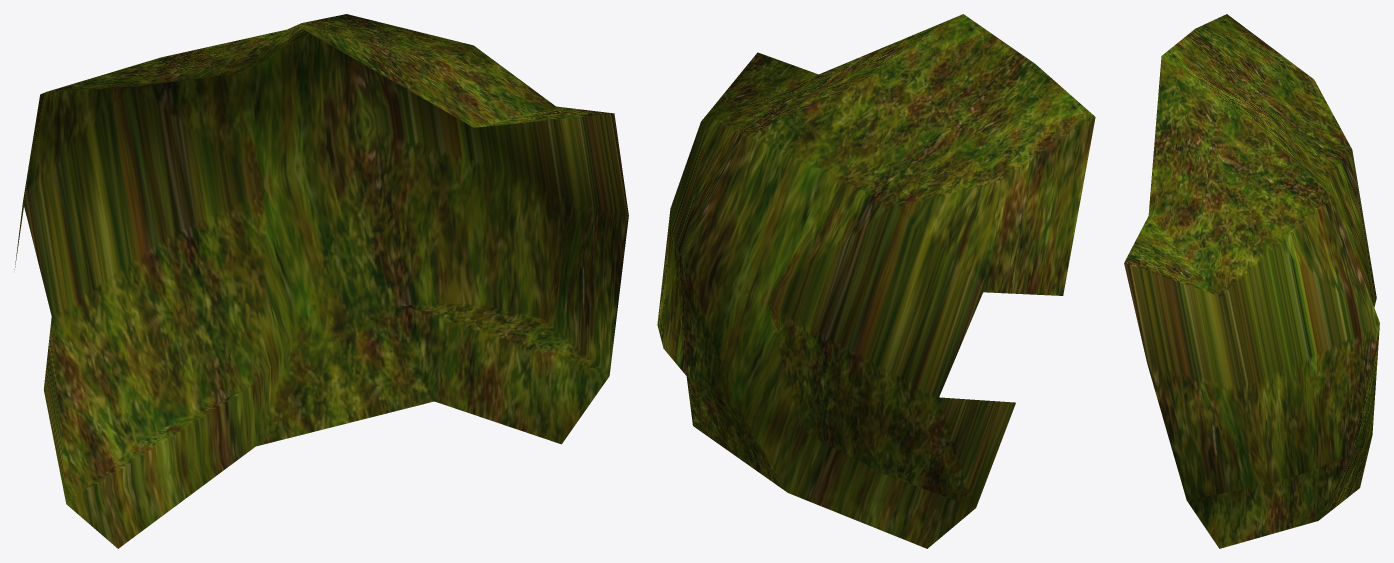
The model's file is TROLLHOLE02_RM_PSURF96.fbx.
3 renders of one model, left to right at view 1: azimuth 30°, elevation 25°; view 2: azimuth 150°, elevation 25°; view 3: azimuth 270°, elevation 25°, orthographic. The views are drawn at different scales.
Parts seen in each view (by area): view 1: TROLLHOLE02_RM_PSURF96; view 2: TROLLHOLE02_RM_PSURF96; view 3: TROLLHOLE02_RM_PSURF96.
Part boxes in pixels (box(x1,y1,x2,y2)): TROLLHOLE02_RM_PSURF96: box(14, 14, 628, 548); TROLLHOLE02_RM_PSURF96: box(657, 14, 1095, 548); TROLLHOLE02_RM_PSURF96: box(1124, 14, 1379, 548).
Size of the model in its own units: 60089 by 62365 by 33264.
Materials: 1 (1 with a texture image).
